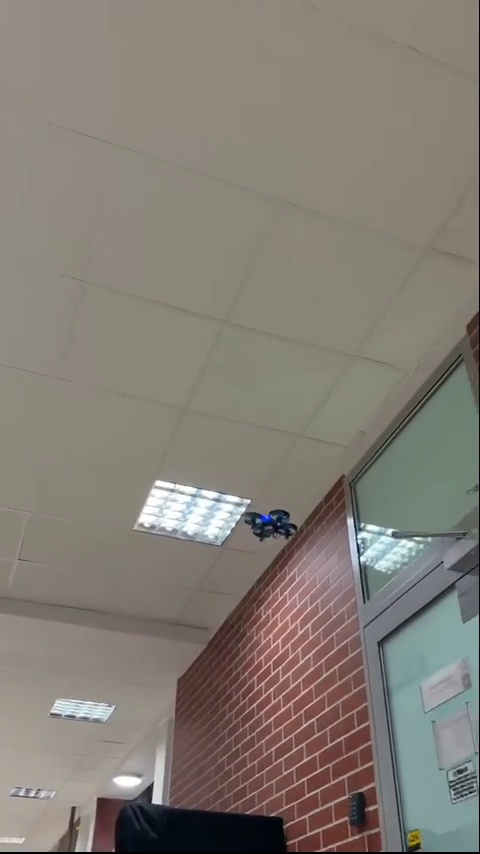drone: (245, 506, 301, 544)
